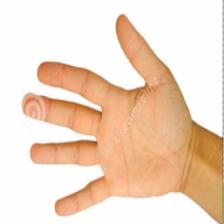five: (19, 12, 199, 220)
